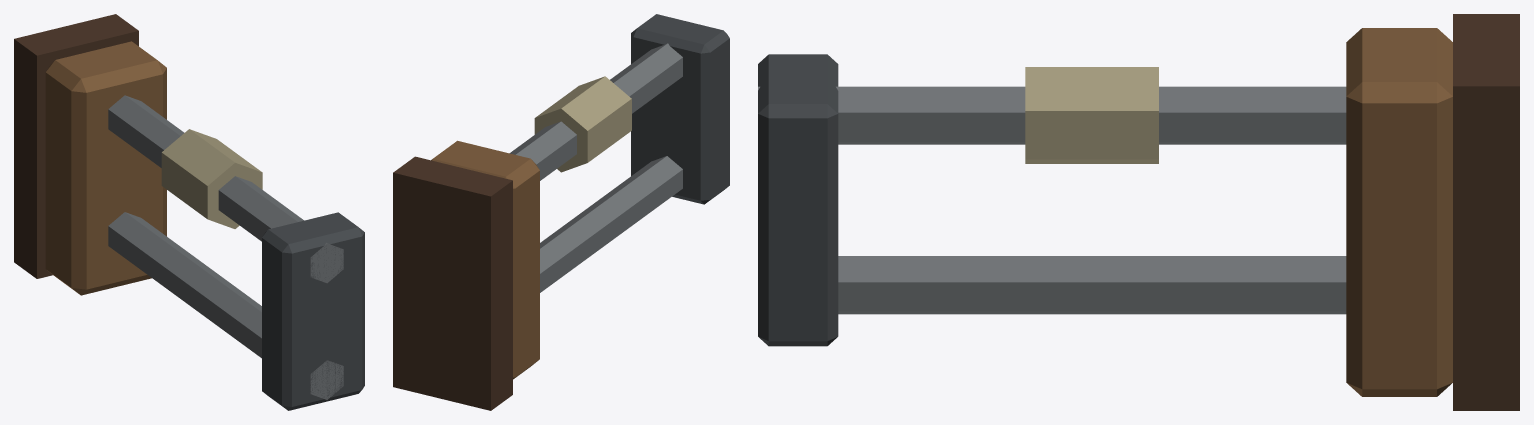
The model's file is mod_stock.glb.
The picture shows the model from 3 angles, left to right: view 1: azimuth 30°, elevation 25°; view 2: azimuth 150°, elevation 25°; view 3: azimuth 270°, elevation 25°; orthographic projection. The views are drawn at different scales.
Parts seen in each view (by area): view 1: stock; view 2: stock; view 3: stock.
Part boxes in pixels (x1,y1,x2,y2): stock: [14, 14, 364, 410]; stock: [393, 14, 729, 410]; stock: [758, 14, 1519, 410].
Bounding box in the file's own units: 0.064 × 0.134 × 0.285.
